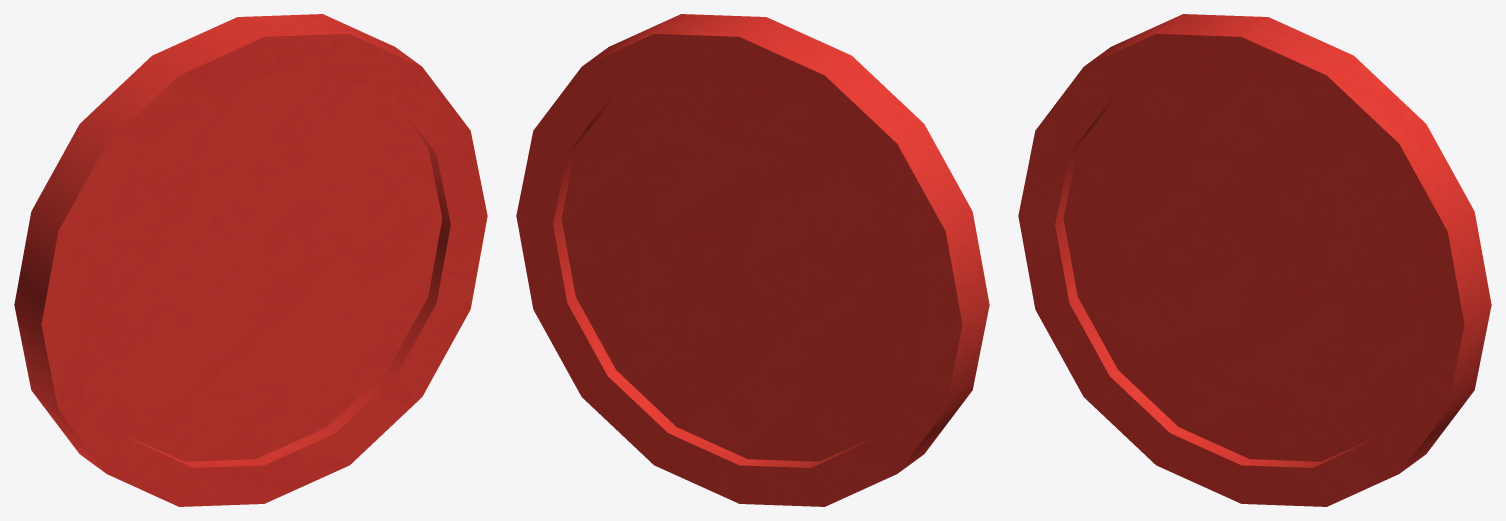
Rendered from puck.obj.
The picture shows the model from 3 angles, left to right: view 1: azimuth 30°, elevation 25°; view 2: azimuth 150°, elevation 25°; view 3: azimuth 330°, elevation 25°; orthographic projection.
Visible parts, largest first — view 1: Puck_Sphere.002; view 2: Puck_Sphere.002; view 3: Puck_Sphere.002.
Part boxes in pixels (bbox=[...]): Puck_Sphere.002: bbox=[14, 14, 487, 506]; Puck_Sphere.002: bbox=[516, 14, 989, 506]; Puck_Sphere.002: bbox=[1018, 14, 1491, 506].
Size of the model in its own units: 0.1018 by 0.1018 by 0.0107.
1 material, 1 textured.
